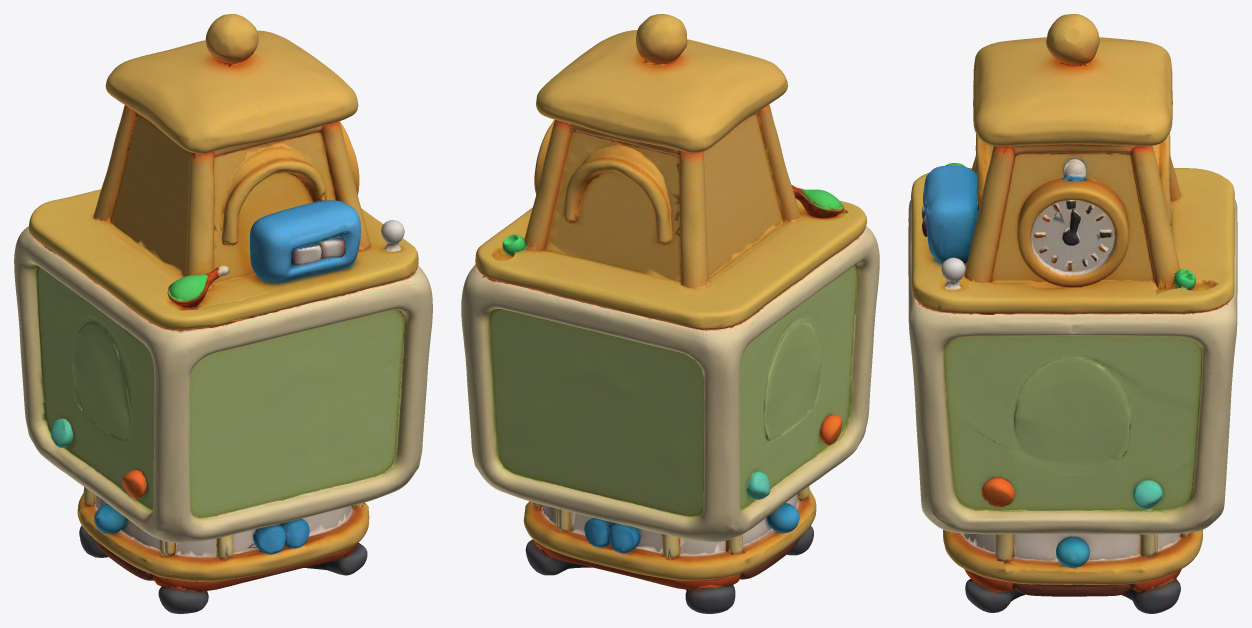
File: env_nest_deco_07.glb
3 views of the same model, side by side, from view 1: azimuth 30°, elevation 25°; view 2: azimuth 150°, elevation 25°; view 3: azimuth 270°, elevation 25° (orthographic). The views are drawn at different scales.
Visible parts, largest first — view 1: tripo_node_f0e8e74c-7aa3-4de9-99f1-92983175eb76; view 2: tripo_node_f0e8e74c-7aa3-4de9-99f1-92983175eb76; view 3: tripo_node_f0e8e74c-7aa3-4de9-99f1-92983175eb76.
Part boxes in pixels (box(x1,y1,x2,y2)): tripo_node_f0e8e74c-7aa3-4de9-99f1-92983175eb76: box(14, 14, 432, 613); tripo_node_f0e8e74c-7aa3-4de9-99f1-92983175eb76: box(461, 14, 879, 613); tripo_node_f0e8e74c-7aa3-4de9-99f1-92983175eb76: box(908, 14, 1237, 613).
Bounding box in the file's own units: 0.6361 × 1.2 × 0.6432.
Materials: 1 (1 with a texture image).
